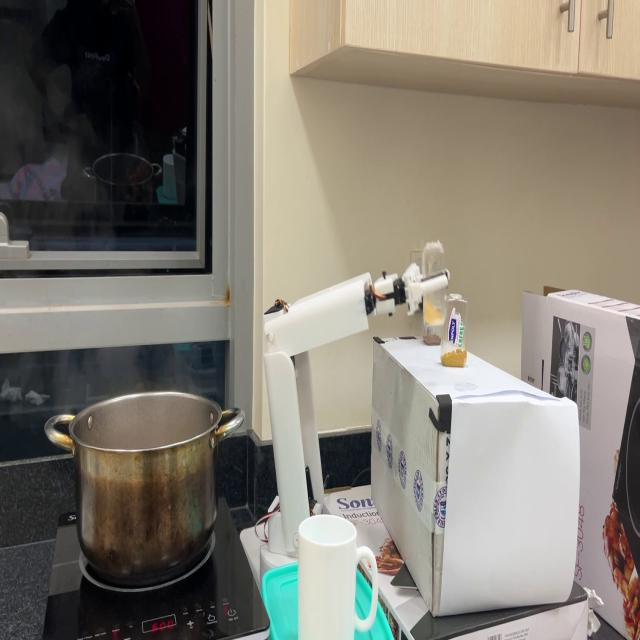cooking_pot: (39, 392, 250, 578)
curry_powder: (440, 340, 468, 372)
garlic_powder: (423, 303, 443, 327)
maggie_open: (422, 330, 439, 351)
